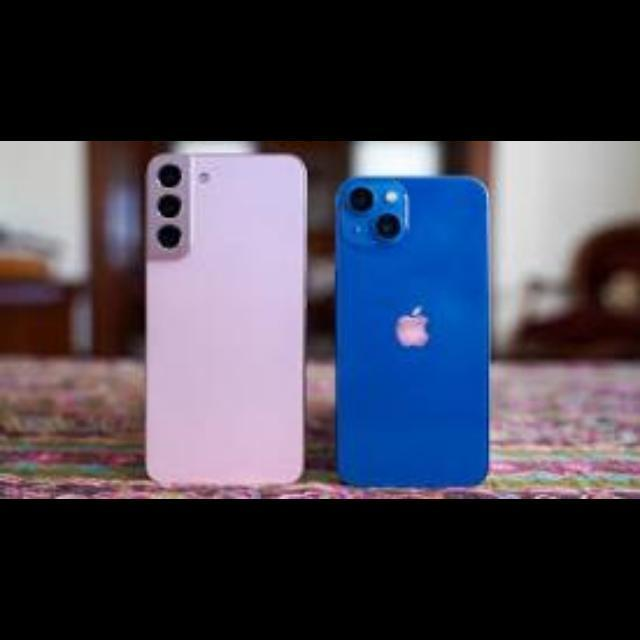PhoneUse: (135, 147, 311, 489), (338, 178, 490, 490)
